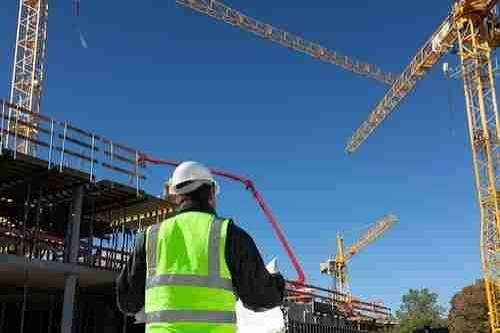crane: (346, 8, 495, 326), (309, 195, 397, 313)
hardhat: (163, 158, 224, 198)
person: (112, 156, 295, 331)
safety_vest: (139, 214, 241, 328)
